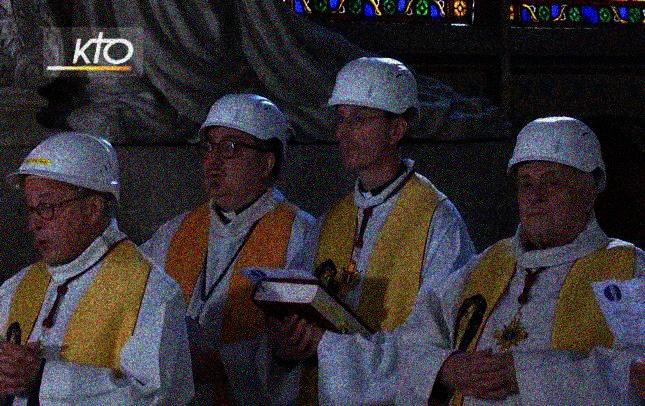helmet: (5, 132, 123, 265), (507, 115, 609, 232), (326, 55, 422, 171), (199, 92, 290, 199)
